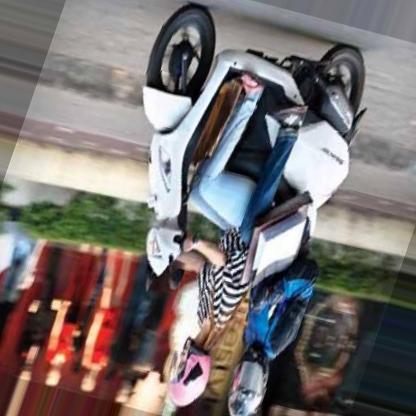with helmet: (165, 336, 210, 408), (225, 346, 271, 416)
